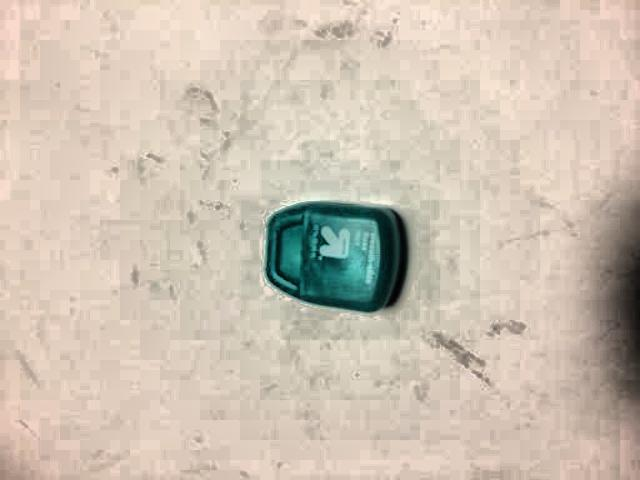Plastic: (240, 181, 421, 331)
